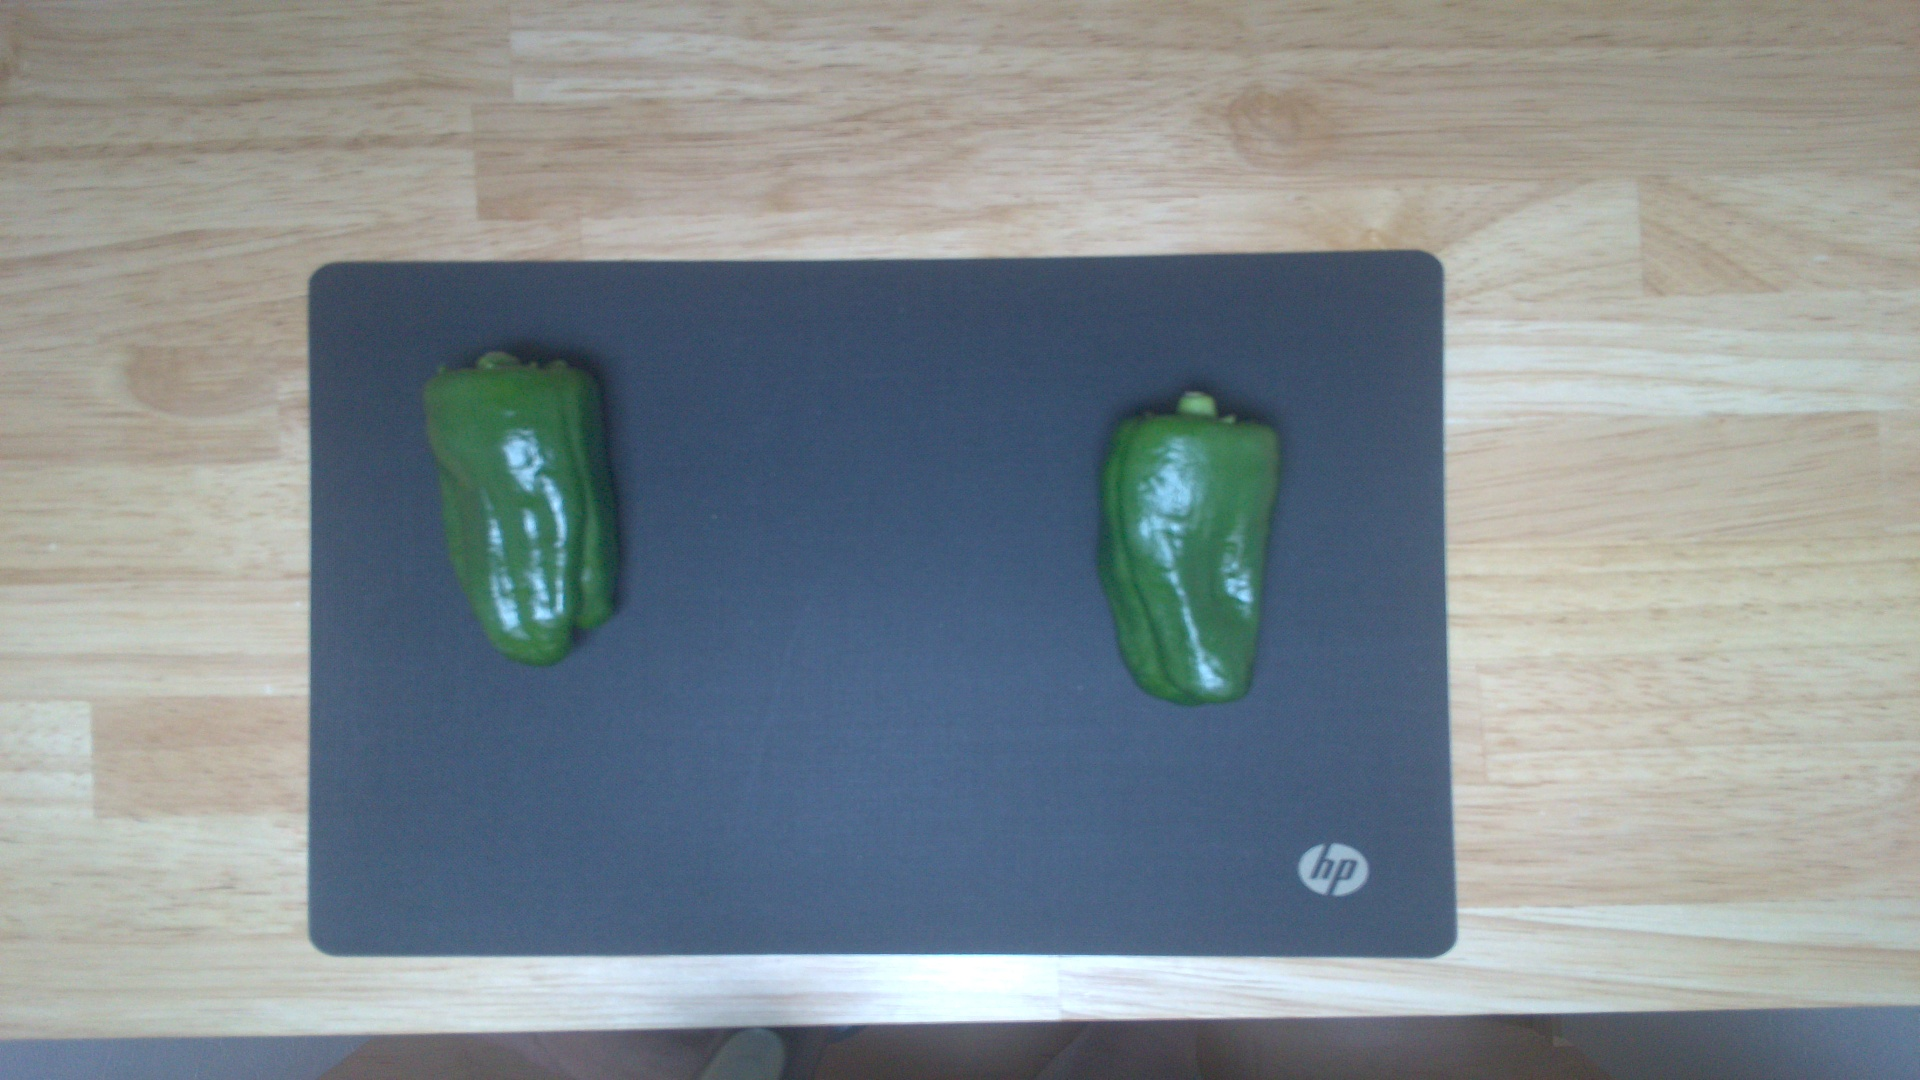Piman: (421, 348, 626, 669), (1097, 386, 1282, 709)
